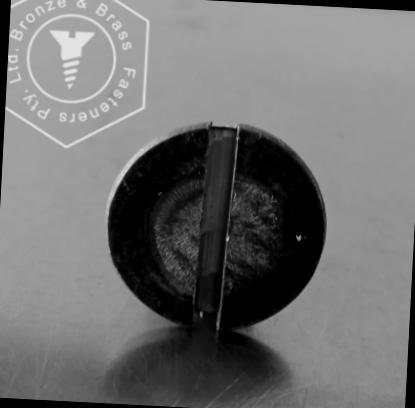screw: (101, 116, 330, 339)
